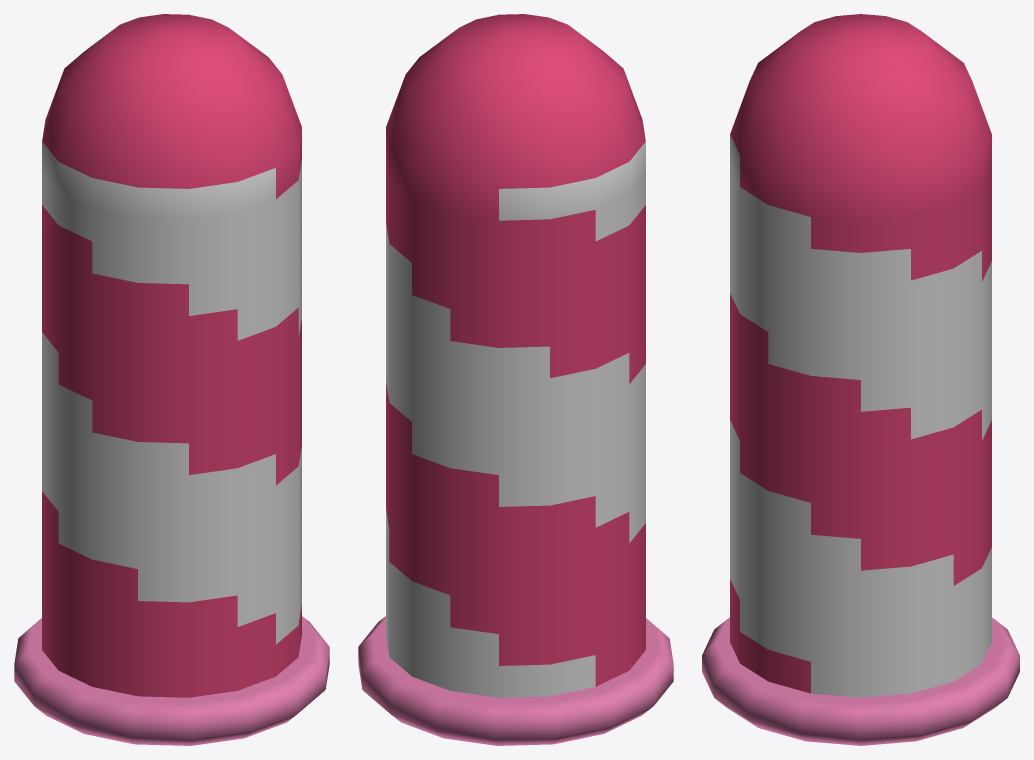
The model's file is candy-prop3.glb.
3 views of the same model, side by side, from view 1: azimuth 30°, elevation 25°; view 2: azimuth 150°, elevation 25°; view 3: azimuth 270°, elevation 25° (orthographic).
Visible parts, largest first — view 1: candy-prop3; view 2: candy-prop3; view 3: candy-prop3.
Boxes of the visible parts, bbox=[...] form: candy-prop3: bbox=[14, 14, 329, 745]; candy-prop3: bbox=[358, 14, 673, 745]; candy-prop3: bbox=[702, 14, 1019, 745].
Bounding box in the file's own units: 0.68 × 1.54 × 0.68.
